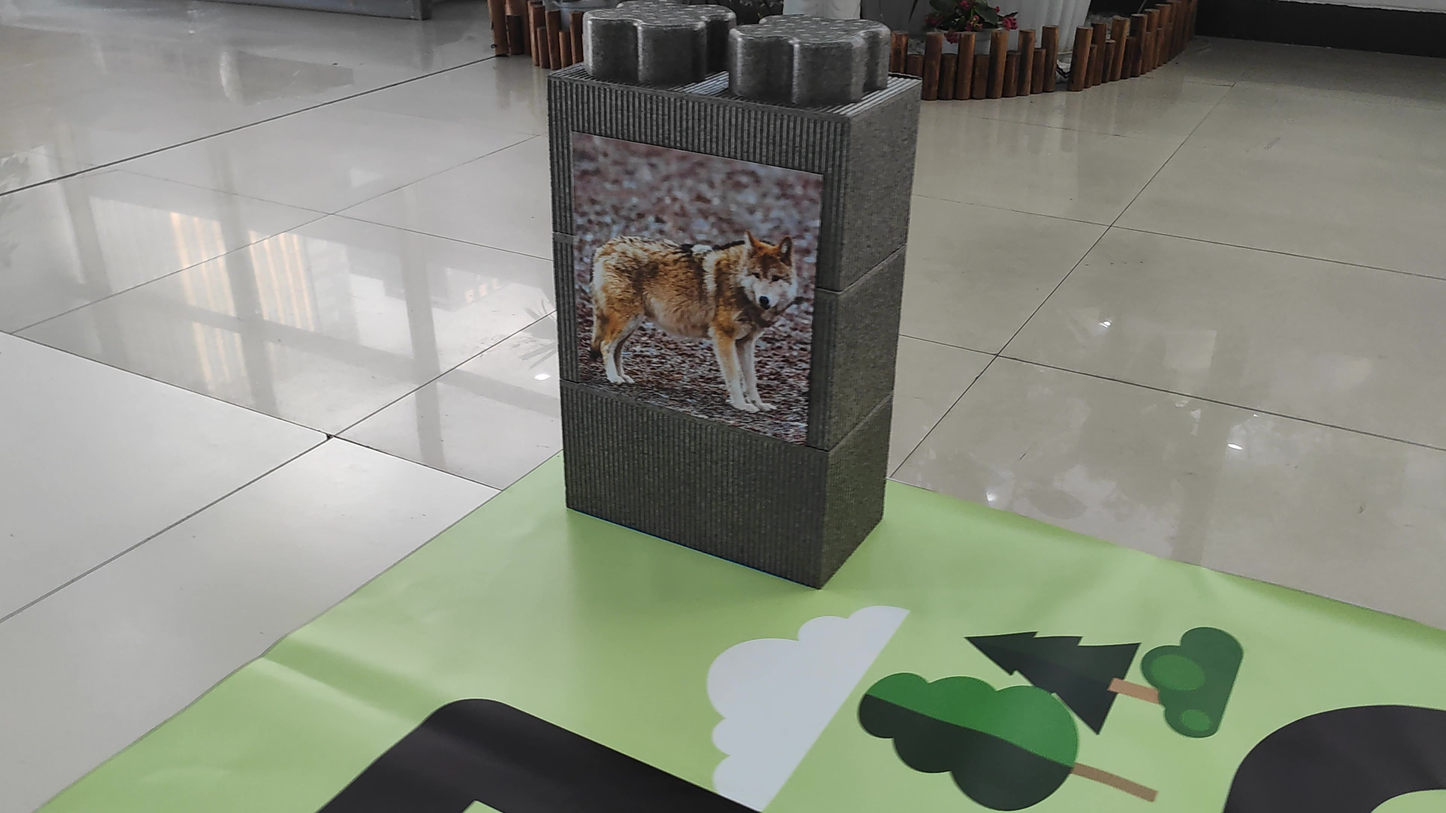wolf: (578, 208, 810, 414)
